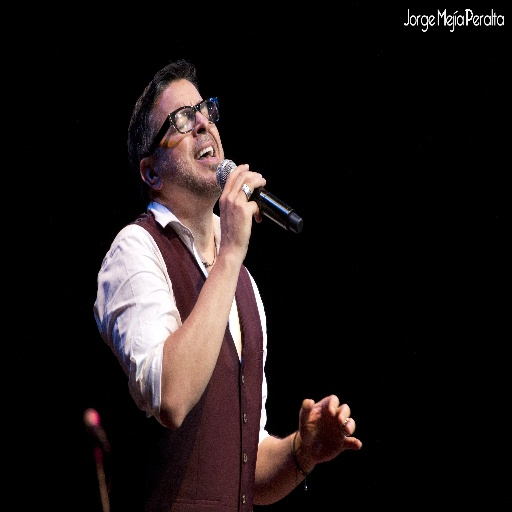hand: (278, 397, 362, 479), (218, 161, 267, 263)
